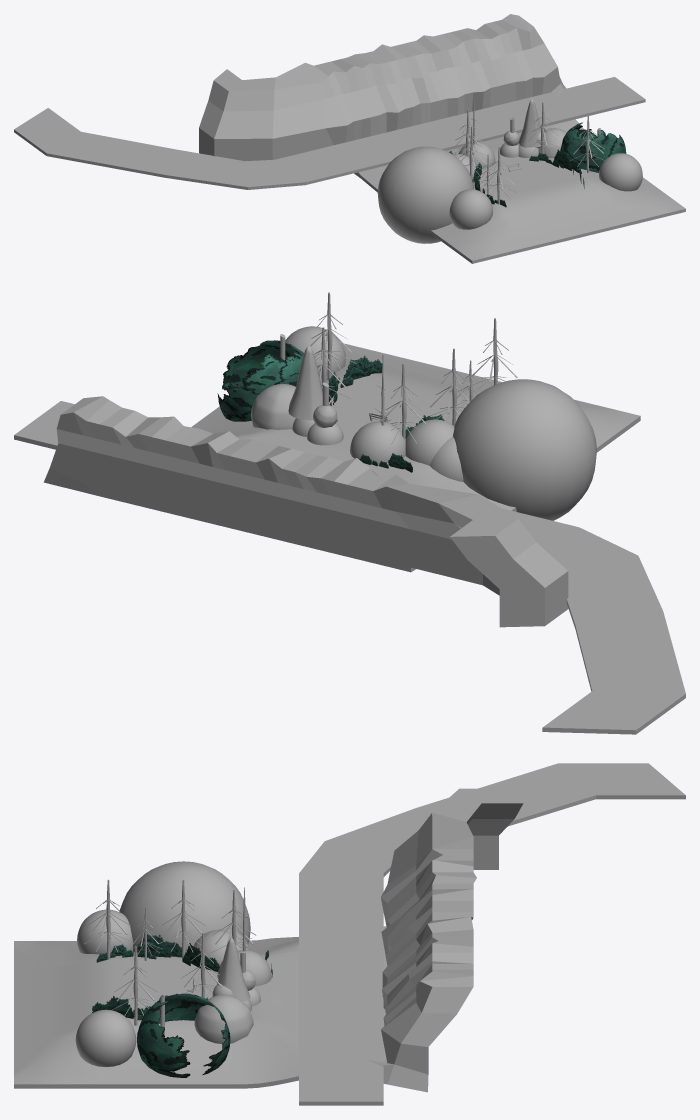
File: Fbx_Env_ParkScene3_PV.fbx
3 renders of one model, top to bottom at view 1: azimuth 30°, elevation 25°; view 2: azimuth 150°, elevation 25°; view 3: azimuth 270°, elevation 25°, orthographic. The views are drawn at different scales.
Parts seen in each view (by area): view 1: pPlane1, pCube9, pSphere5, pSphere1, pSphere4, pSphere3, pCylinder15, pSphere10, pSphere2, pCylinder23; view 2: pPlane1, pCube9, pSphere5, pSphere1, pSphere10, pSphere2, pCylinder15, pSphere7, pSphere3, pSphere6, pCylinder22, pCylinder25; view 3: pPlane1, pCube9, pSphere5, pSphere1, pSphere3, pSphere2, pSphere4, pCylinder15, pSphere7, pSphere10, pCylinder23, pCylinder20 (+2 smaller).
Boxes of the visible parts, box(x1,y1,x2,y2) form: pPlane1: box(199, 14, 685, 263); pCube9: box(14, 77, 645, 189); pSphere5: box(377, 146, 473, 243); pSphere1: box(560, 122, 626, 172); pSphere4: box(449, 189, 492, 229); pSphere3: box(599, 153, 642, 191); pCylinder15: box(519, 98, 541, 147); pSphere10: box(458, 141, 495, 168); pSphere2: box(538, 128, 566, 158); pCylinder23: box(481, 146, 516, 204); pPlane1: box(43, 343, 640, 627); pCube9: box(14, 401, 685, 734); pSphere5: box(453, 379, 596, 520); pSphere1: box(217, 340, 303, 421); pSphere10: box(350, 421, 405, 464); pSphere2: box(251, 384, 295, 429); pCylinder15: box(288, 344, 322, 420); pSphere7: box(405, 419, 454, 465); pSphere3: box(285, 326, 345, 378); pSphere6: box(429, 436, 463, 481); pCylinder22: box(310, 292, 356, 380); pCylinder25: box(379, 363, 425, 444); pPlane1: box(14, 788, 523, 1092); pCube9: box(299, 763, 685, 1105); pSphere5: box(119, 861, 250, 952); pSphere1: box(137, 993, 230, 1077); pSphere3: box(75, 1009, 136, 1066); pSphere2: box(194, 994, 253, 1043); pSphere4: box(77, 909, 132, 954); pCylinder15: box(212, 936, 250, 1001); pSphere7: box(193, 929, 246, 965); pSphere10: box(217, 950, 271, 986); pCylinder23: box(84, 879, 132, 959); pCylinder20: box(159, 879, 205, 958).
Bounding box in the file's own units: 9.46 × 1.93 × 7.93.
